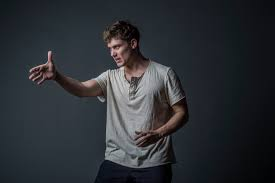hand: (22, 44, 66, 89)
